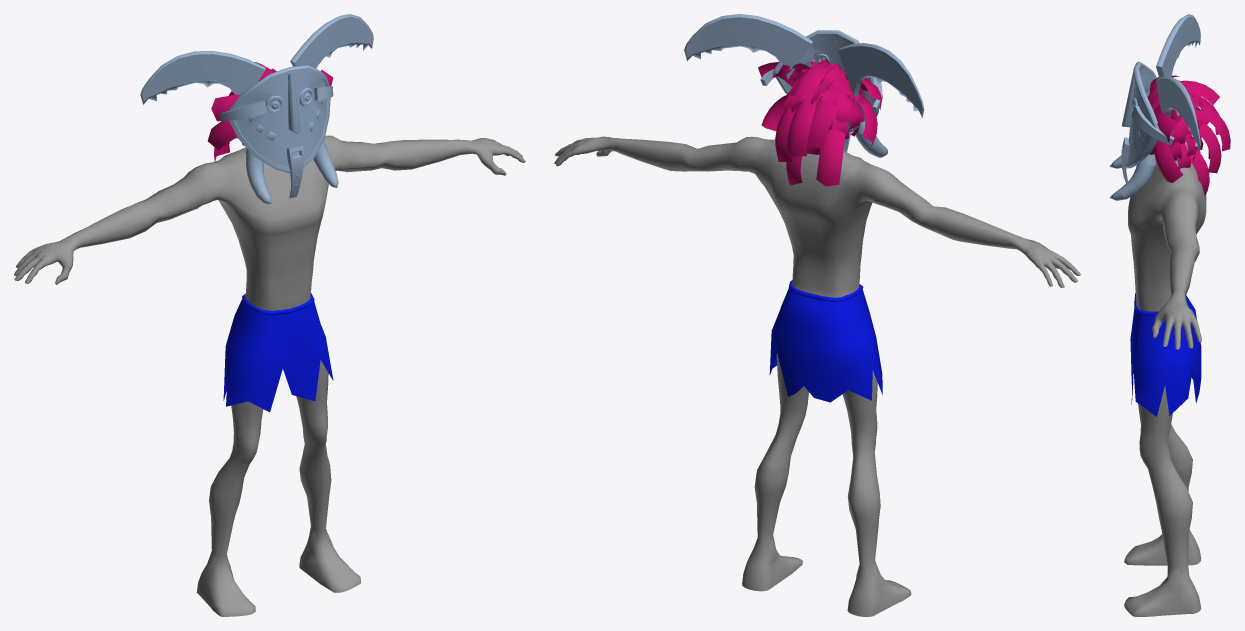
Rendered from enemy bobo.FBX.
3 renders of one model, left to right at view 1: azimuth 30°, elevation 25°; view 2: azimuth 150°, elevation 25°; view 3: azimuth 270°, elevation 25°, orthographic. The views are drawn at different scales.
Visible parts, largest first — view 1: Box001, Box002, z, Pelo; view 2: Box001, z, Box002, Pelo; view 3: Box001, Box002, z, Pelo.
Boxes of the visible parts, box(x1,y1,x2,y2) form: Box001: box(14, 135, 525, 616); Box002: box(140, 14, 373, 203); z: box(223, 293, 333, 412); Pelo: box(207, 62, 333, 161); Box001: box(554, 136, 1080, 616); z: box(769, 280, 882, 402); Box002: box(684, 14, 924, 157); Pelo: box(758, 60, 881, 186); Box001: box(1124, 105, 1206, 616); Box002: box(1109, 14, 1200, 200); z: box(1130, 292, 1201, 416); Pelo: box(1147, 75, 1230, 195).
Bounding box in the file's own units: 478 × 493 × 102.
